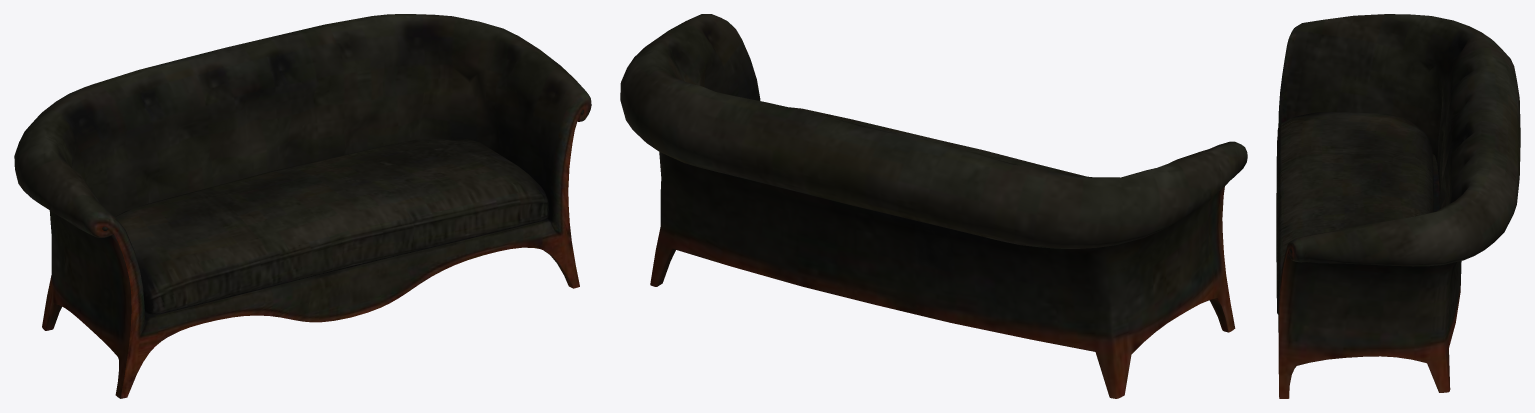
The model's file is sofa_02.glb.
3 views of the same model, side by side, from view 1: azimuth 30°, elevation 25°; view 2: azimuth 150°, elevation 25°; view 3: azimuth 270°, elevation 25° (orthographic). The views are drawn at different scales.
Parts seen in each view (by area): view 1: sofa_02_Base, sofa_02_Seat; view 2: sofa_02_Base, sofa_02_Seat; view 3: sofa_02_Base, sofa_02_Seat.
Part boxes in pixels (<box>): sofa_02_Base: <box>14,14,591,398</box>; sofa_02_Seat: <box>115,139,549,314</box>; sofa_02_Base: <box>620,14,1247,398</box>; sofa_02_Seat: <box>789,107,1086,176</box>; sofa_02_Base: <box>1278,14,1520,398</box>; sofa_02_Seat: <box>1276,112,1433,314</box>.
Size of the model in its own units: 1.81 by 0.7095 by 0.8178.
Materials: 1 (1 with a texture image).
